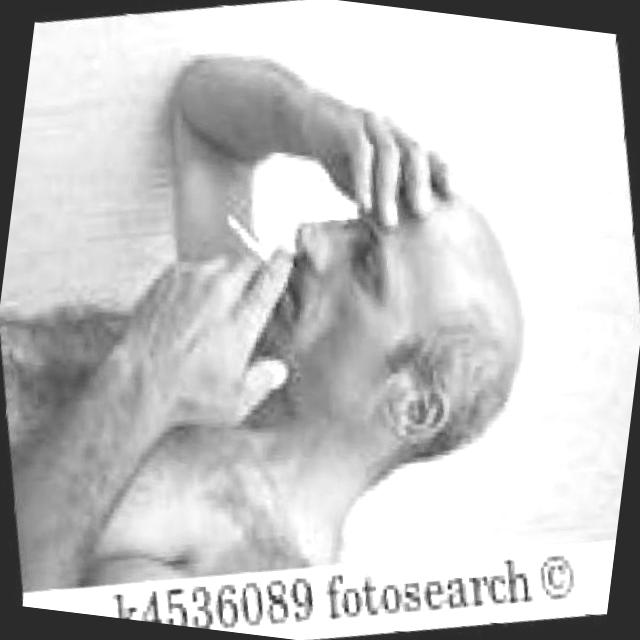cigarette: (218, 210, 279, 279)
